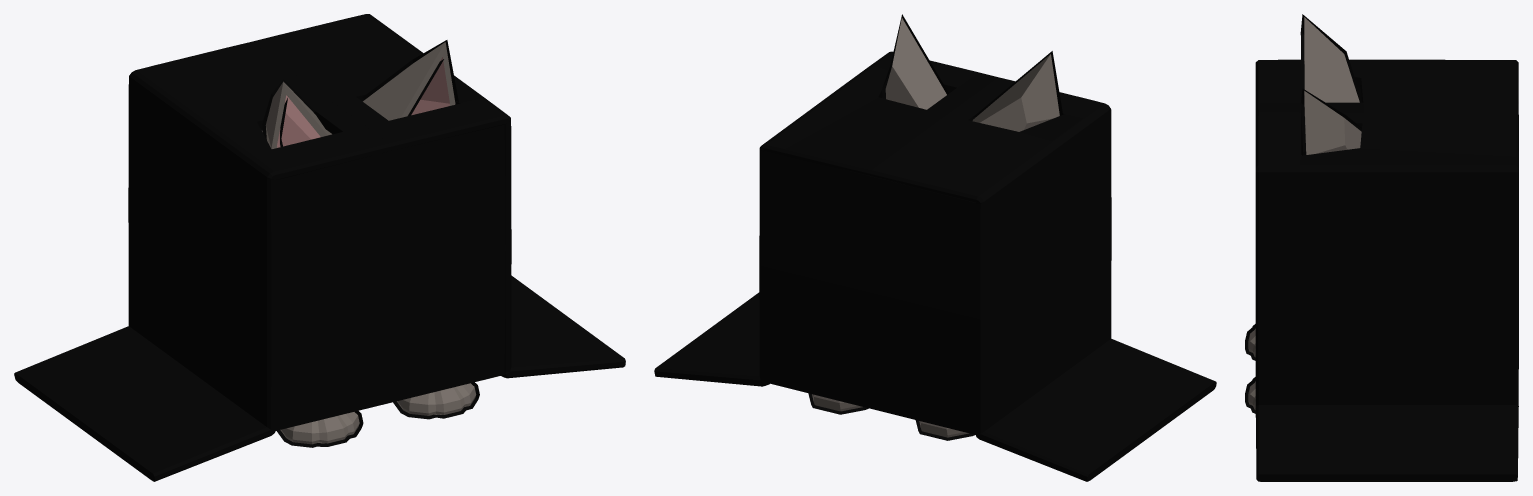
The model's file is enemy_boss_cube.fbx.
3 views of the same model, side by side, from view 1: azimuth 30°, elevation 25°; view 2: azimuth 150°, elevation 25°; view 3: azimuth 270°, elevation 25° (orthographic). The views are drawn at different scales.
Visible parts, largest first — view 1: cube_boss_box_outline, cube_boss_cat, cube_boss_cat_outline; view 2: cube_boss_box_outline, cube_boss_cat, cube_boss_cat_outline; view 3: cube_boss_box_outline, cube_boss_cat, cube_boss_cat_outline.
Boxes of the visible parts, left/top/right/bottom form: cube_boss_box_outline: left=14, top=14, right=625, bottom=481; cube_boss_cat: left=262, top=42, right=476, bottom=444; cube_boss_cat_outline: left=262, top=40, right=479, bottom=447; cube_boss_box_outline: left=654, top=51, right=1216, bottom=481; cube_boss_cat: left=812, top=18, right=1059, bottom=437; cube_boss_cat_outline: left=808, top=14, right=1062, bottom=440; cube_boss_box_outline: left=1255, top=59, right=1518, bottom=481; cube_boss_cat: left=1248, top=17, right=1361, bottom=409; cube_boss_cat_outline: left=1245, top=14, right=1362, bottom=413.
Bounding box in the file's own units: 1982 × 1415 × 1070.
